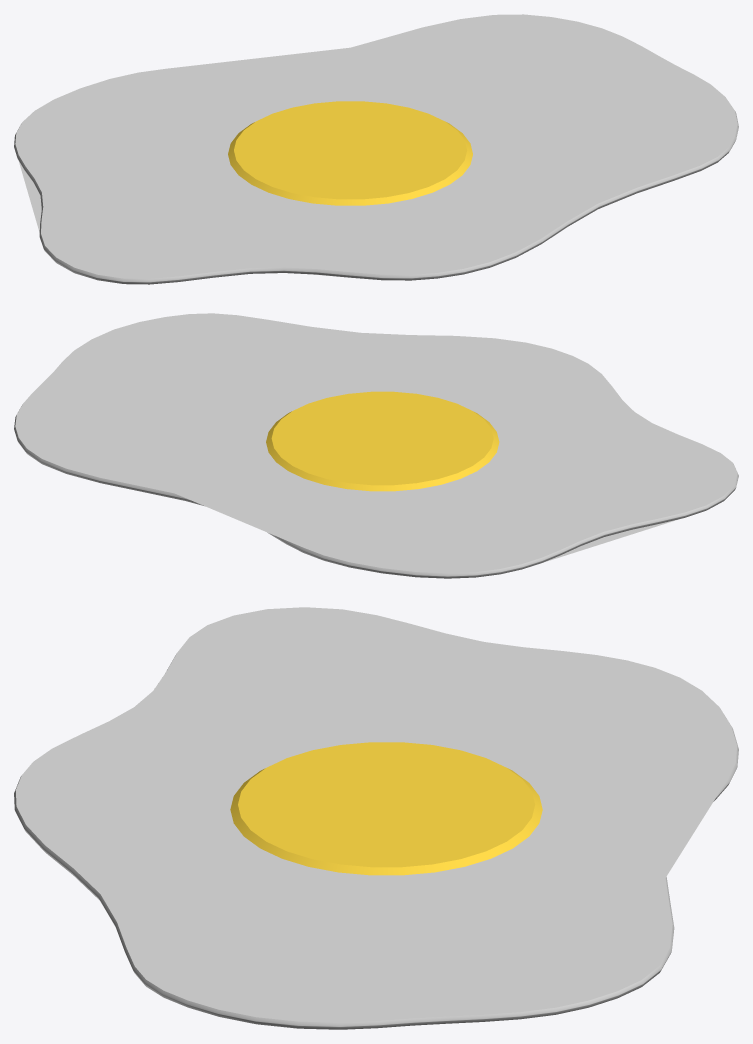
File: MunaMatto3.fbx
The picture shows the model from 3 angles, top to bottom: view 1: azimuth 30°, elevation 25°; view 2: azimuth 150°, elevation 25°; view 3: azimuth 270°, elevation 25°; orthographic projection. The views are drawn at different scales.
Visible parts, largest first — view 1: muna; view 2: muna; view 3: muna.
Boxes of the visible parts, x1,y1,x2,y2 form: muna: (14, 14, 738, 284); muna: (14, 313, 738, 578); muna: (14, 607, 738, 1029).
Size of the model in its own units: 3.96 by 0.055 by 2.91.
